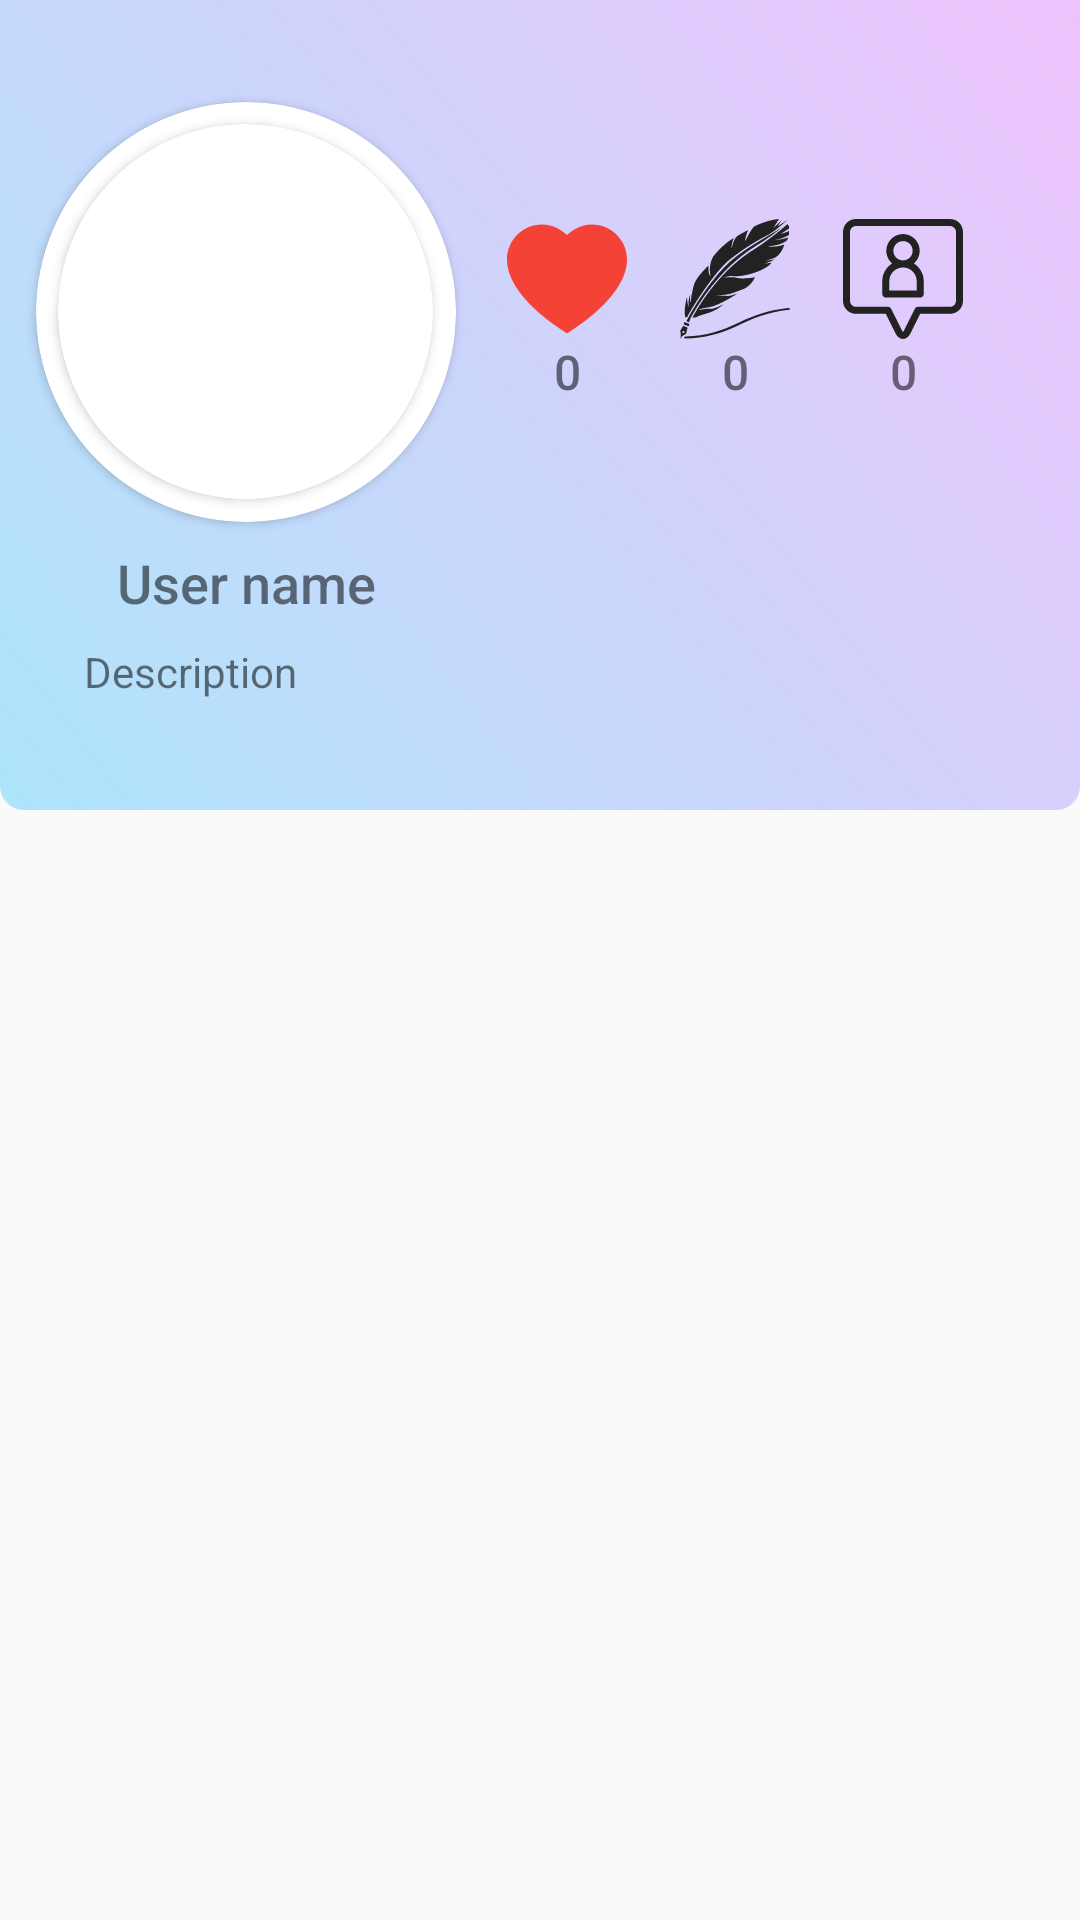

Where icons sit on this 1080×1920 app screen, as (left=x1, top=y1, right=x2, bottom=y2):
follower: (left=843, top=219, right=963, bottom=339)
heart: (left=507, top=224, right=627, bottom=334)
posts written: (left=680, top=219, right=790, bottom=339)
